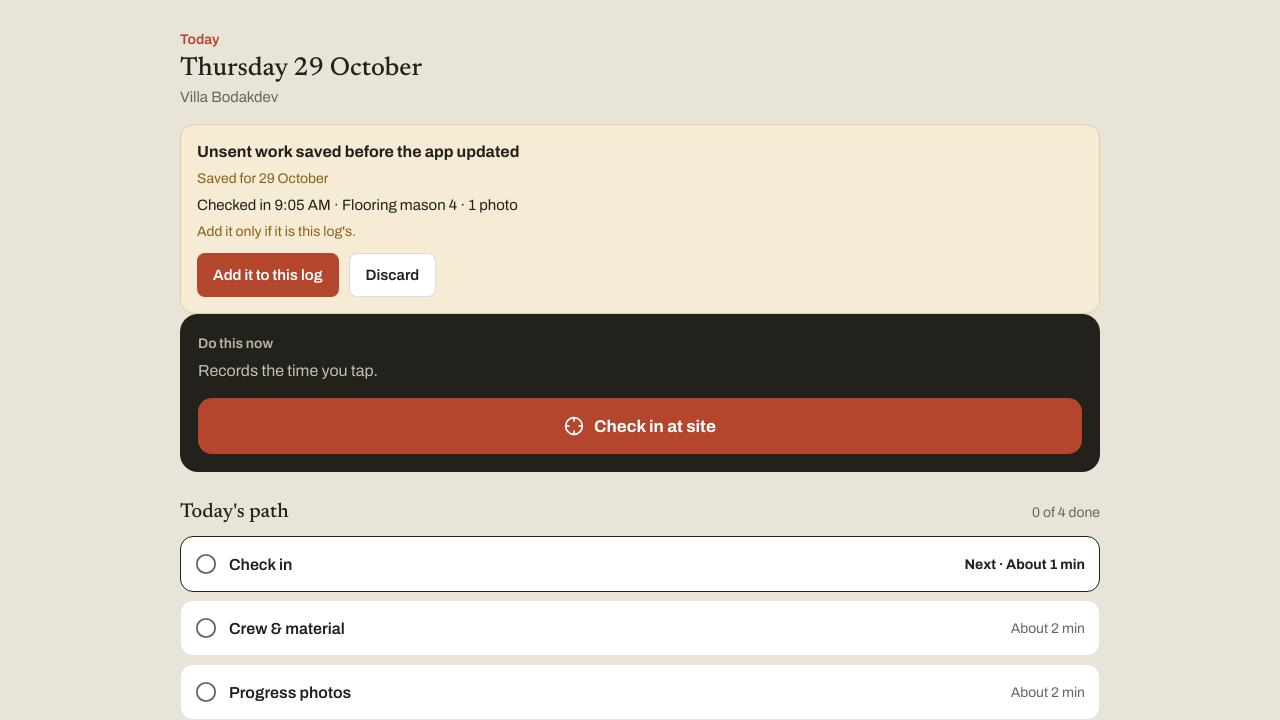
Test: #692 — Today shows kept-aside work and adds it only on confirmation › a discard asks once more, and "Keep it" keeps it
Click the button with test id "legacy-draft-discard". click: (392, 275)
box: x1=348 y1=253 x2=436 y2=297
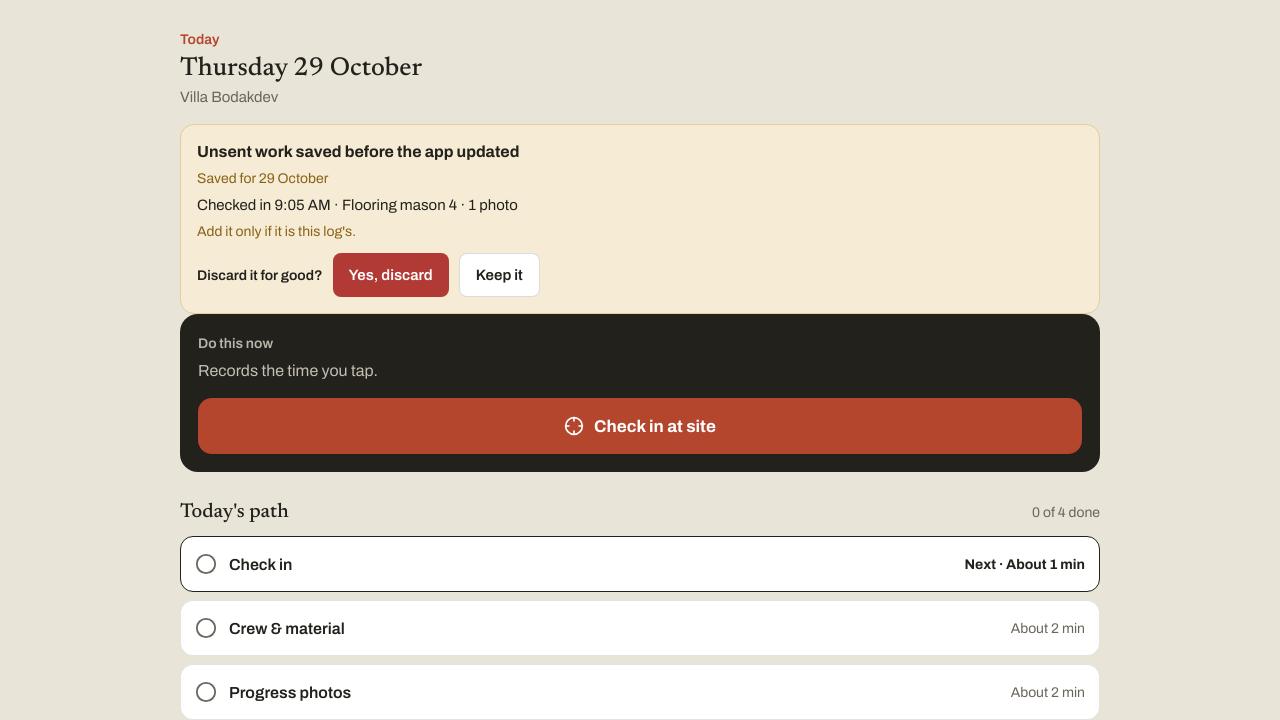
Click the button with test id "legacy-draft-keep". click: (499, 275)
box: x1=459 y1=253 x2=540 y2=297
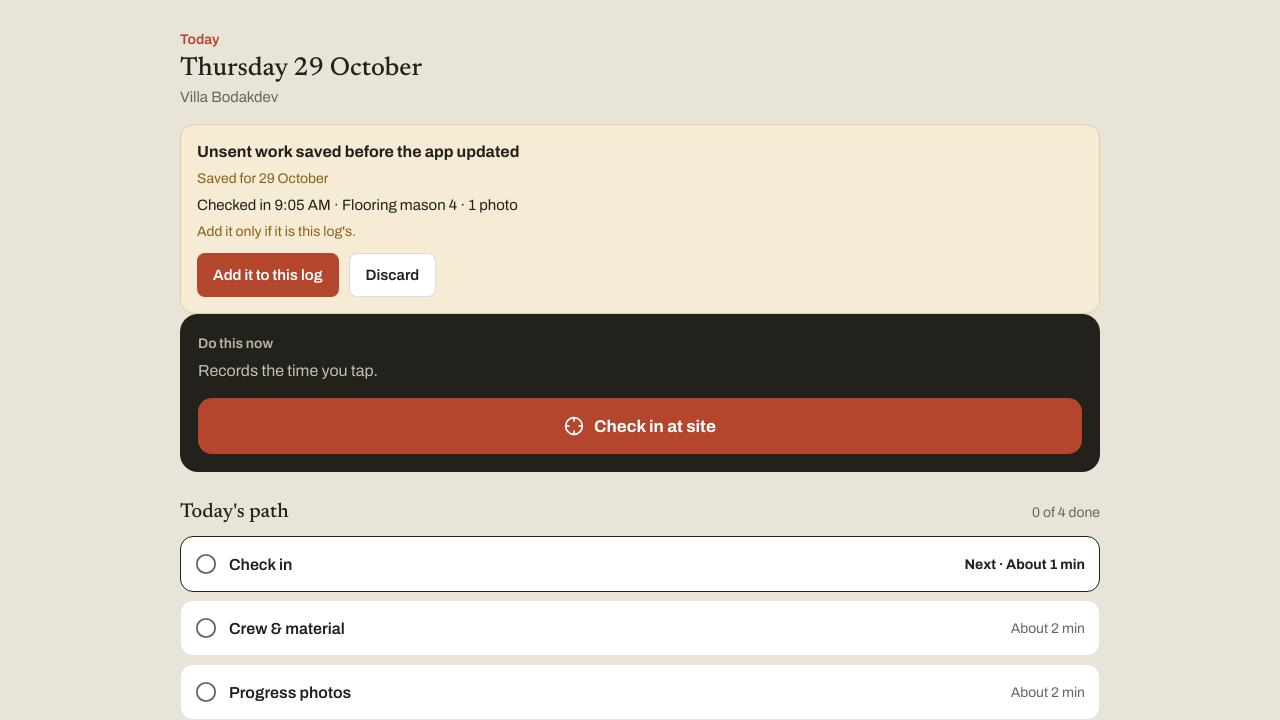
expect the button with test id "legacy-draft-add" is shown: met, box x1=197 y1=253 x2=338 y2=297
Click the button with test id "legacy-draft-discard". click: (392, 275)
box: x1=348 y1=253 x2=436 y2=297
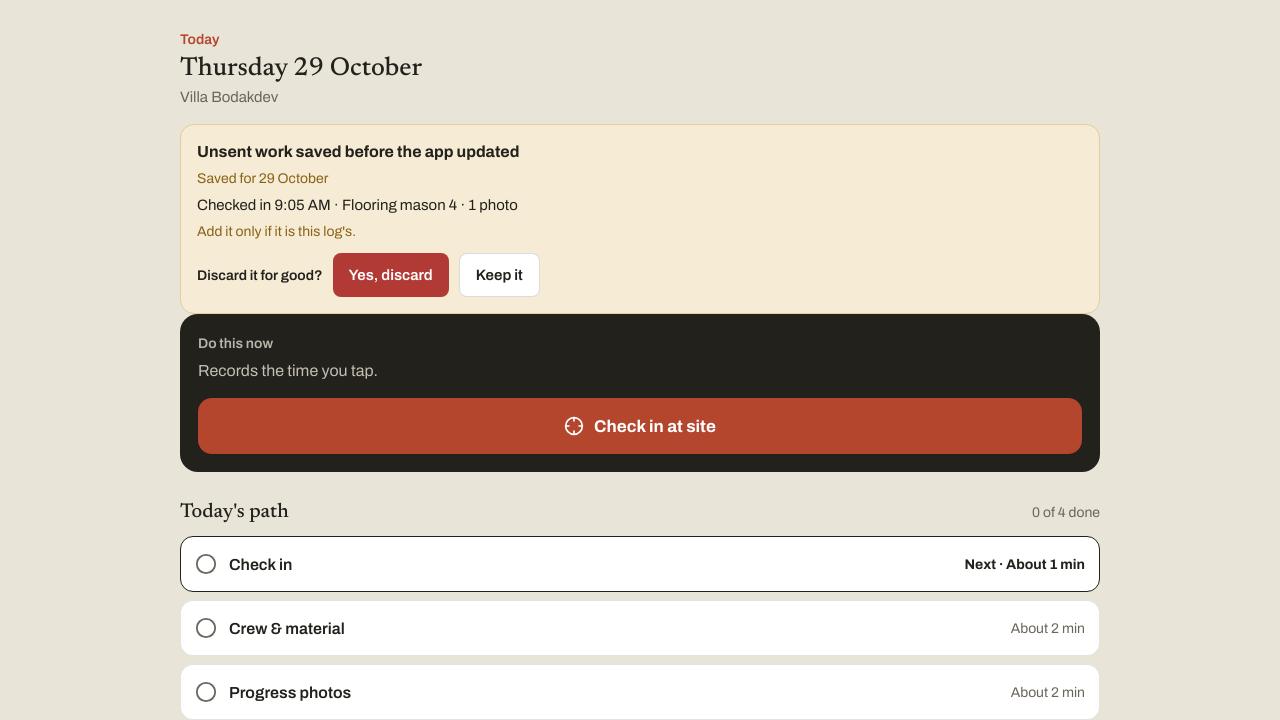
Click the button with test id "legacy-draft-discard-yes". click: (391, 275)
box: x1=333 y1=253 x2=449 y2=297
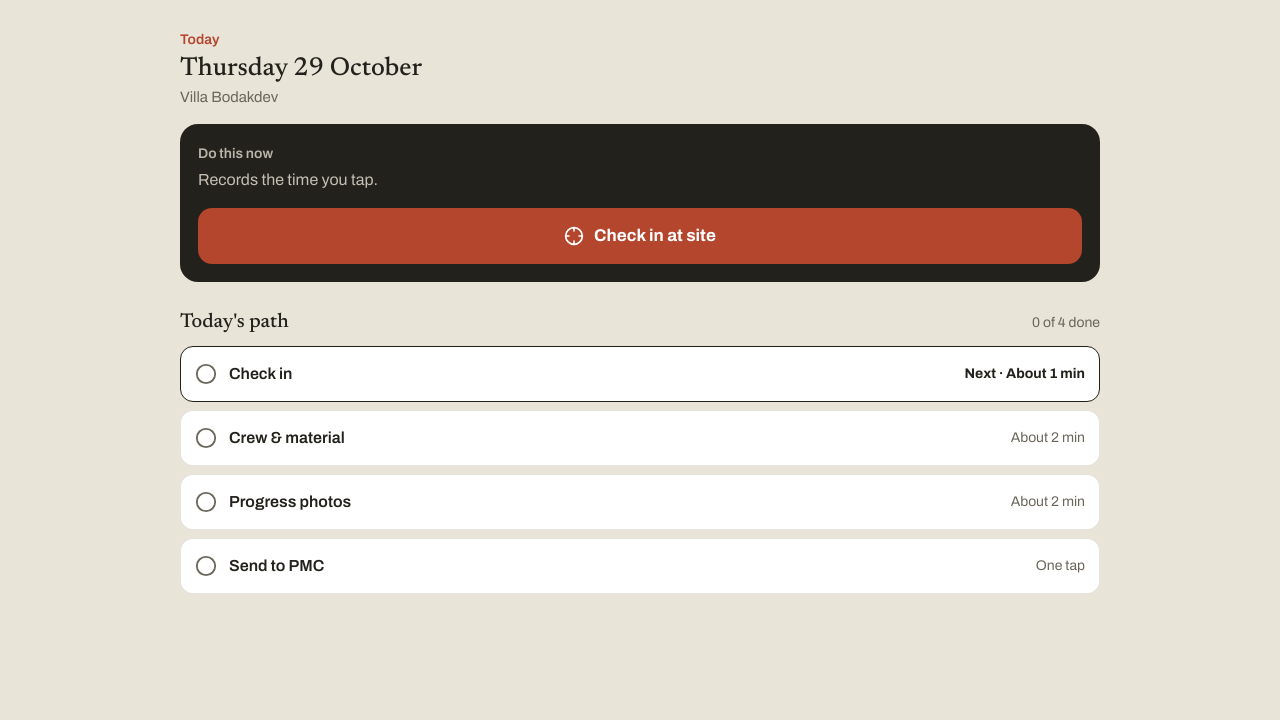
expect the element with test id "legacy-draft" is gone: met
